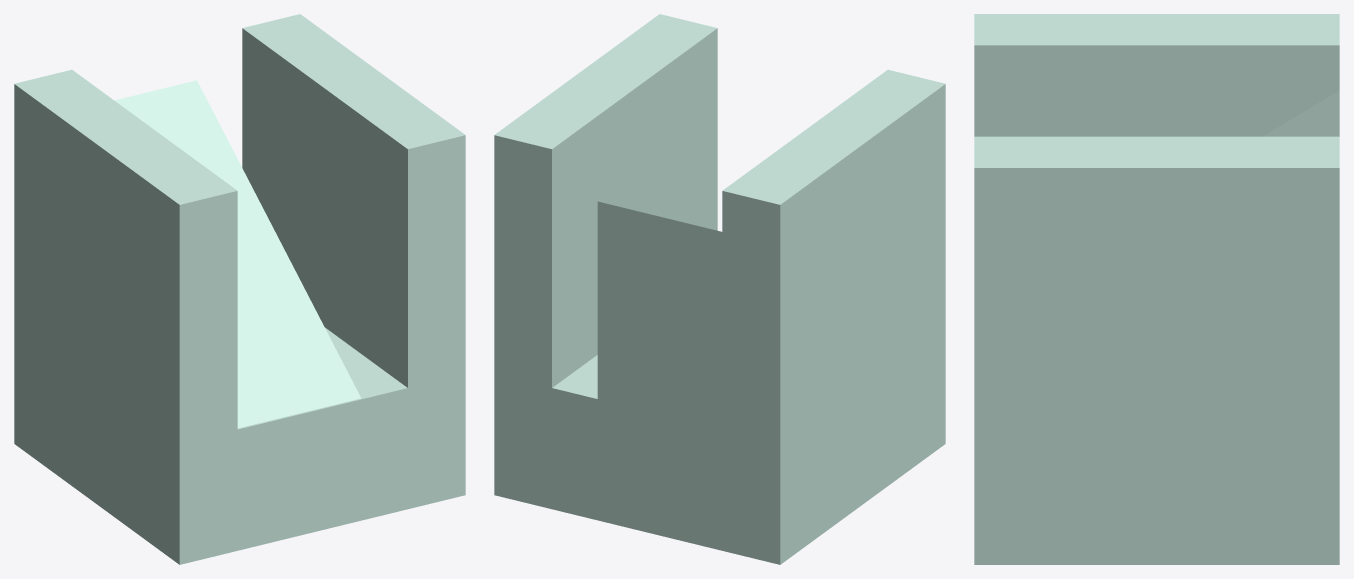
3 views of the same model, side by side, from view 1: azimuth 30°, elevation 25°; view 2: azimuth 150°, elevation 25°; view 3: azimuth 270°, elevation 25° (orthographic). The views are drawn at different scales.
Parts seen in each view (by area): view 1: Renderer Node; view 2: Renderer Node; view 3: Renderer Node.
Part boxes in pixels (x1,y1,x2,y2): Renderer Node: [14, 14, 465, 564]; Renderer Node: [494, 14, 945, 564]; Renderer Node: [974, 14, 1339, 564].
Bounding box in the file's own units: 0.6237 × 0.75 × 0.625.
